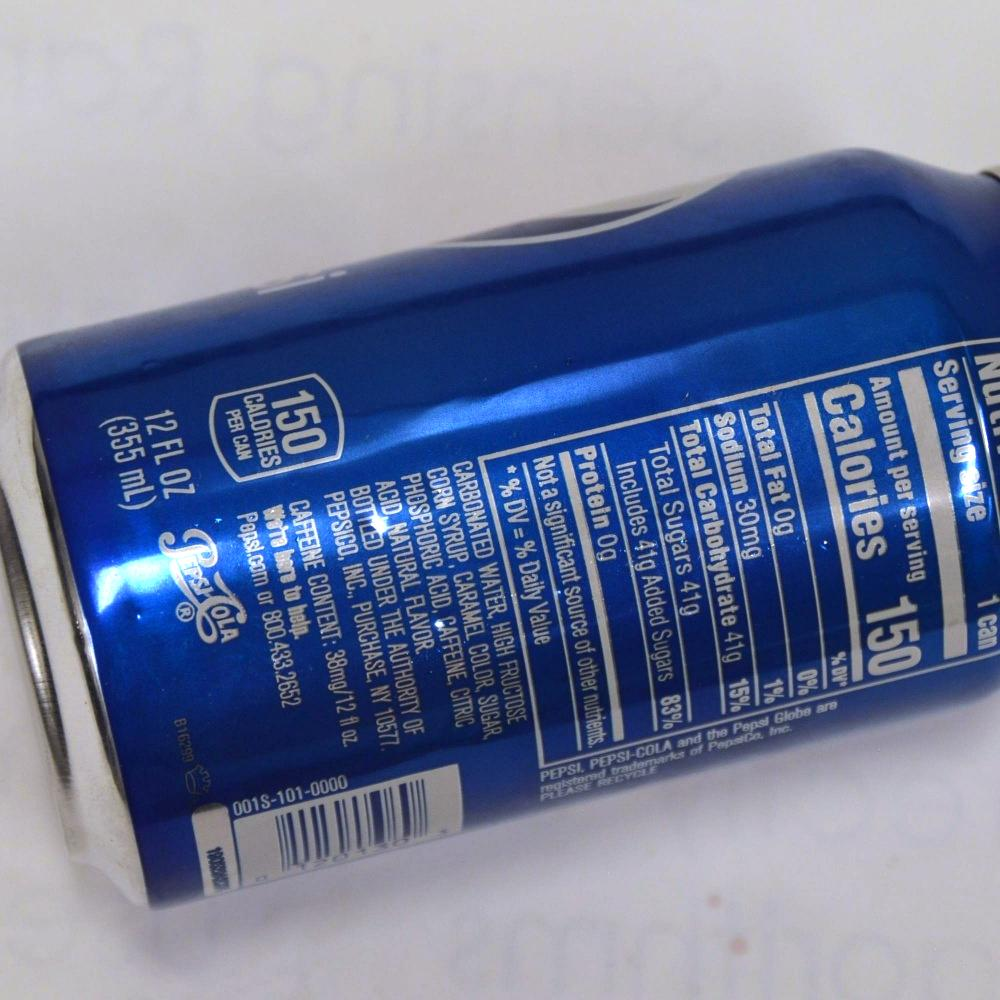Metal: (21, 130, 975, 912)
